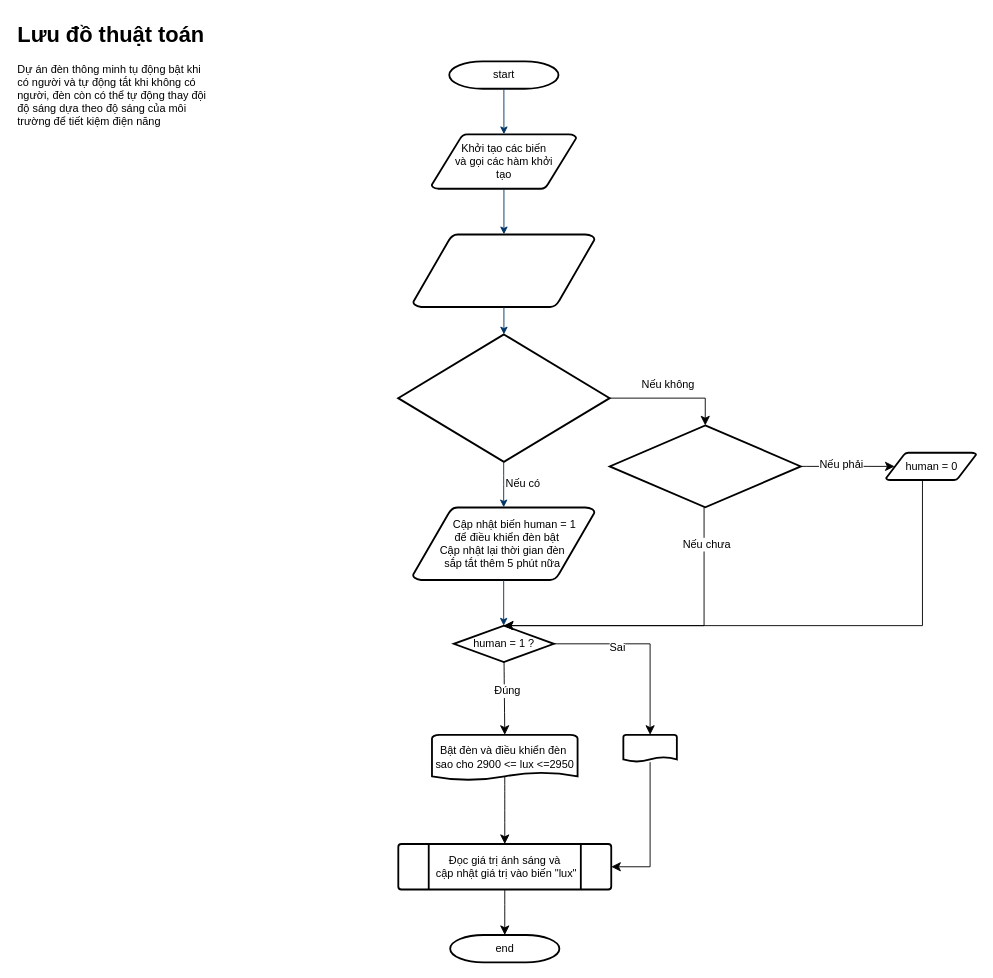
Some shapes in this 993 by 978 pixel diagram are drawn without their labels. Each missing label, with the centre of its shape:
Kiểm tra có người hay không bằng cách đổi chiếu với dữ liệu khoảng cách quá khứ: [503,397]
Nhận thông tin từ cảm biến HR-SR04 và tính toán chuyển đổi thành khoảng cách: [503,270]
Thời gian hiện tại bằng thời gian đèn sắp tắt chưa ?: [704,466]
Tắt đèn: [649,748]
